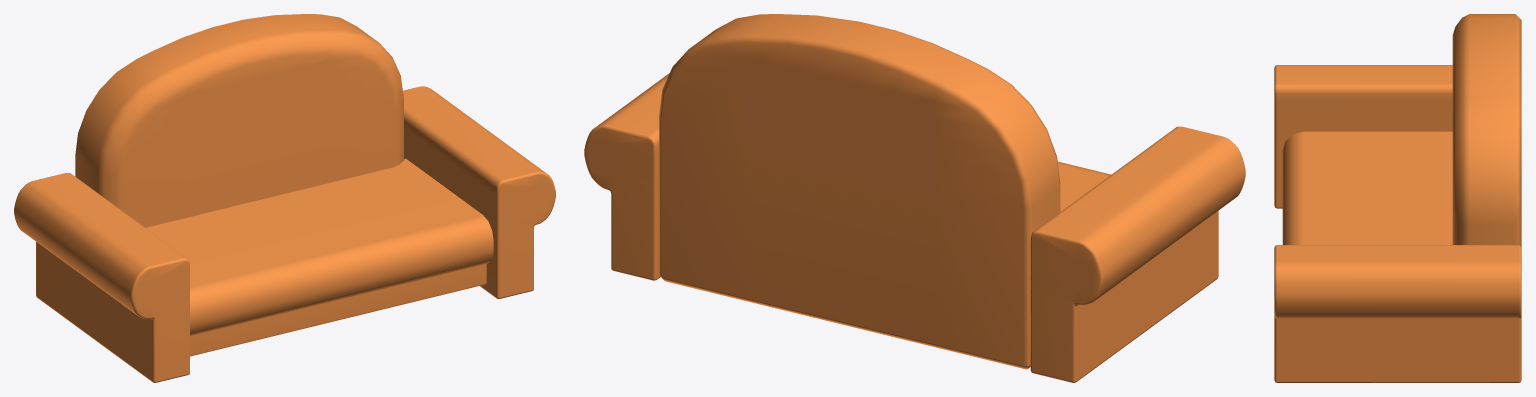
Rendered from Chair_Couch_7.glb.
The picture shows the model from 3 angles, left to right: view 1: azimuth 30°, elevation 25°; view 2: azimuth 150°, elevation 25°; view 3: azimuth 270°, elevation 25°; orthographic projection. The views are drawn at different scales.
Parts seen in each view (by area): view 1: Couch_7; view 2: Couch_7; view 3: Couch_7.
Boxes of the visible parts, <box> form: Couch_7: <box>14,14,555,382</box>; Couch_7: <box>584,14,1245,382</box>; Couch_7: <box>1274,14,1521,382</box>.
Size of the model in its own units: 2.55 by 1.31 by 1.23.
Materials: 1 (1 with a texture image).
